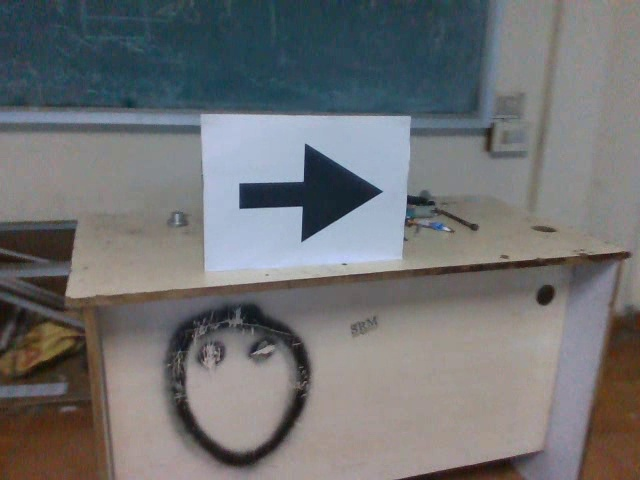Right: (227, 136, 390, 248)
